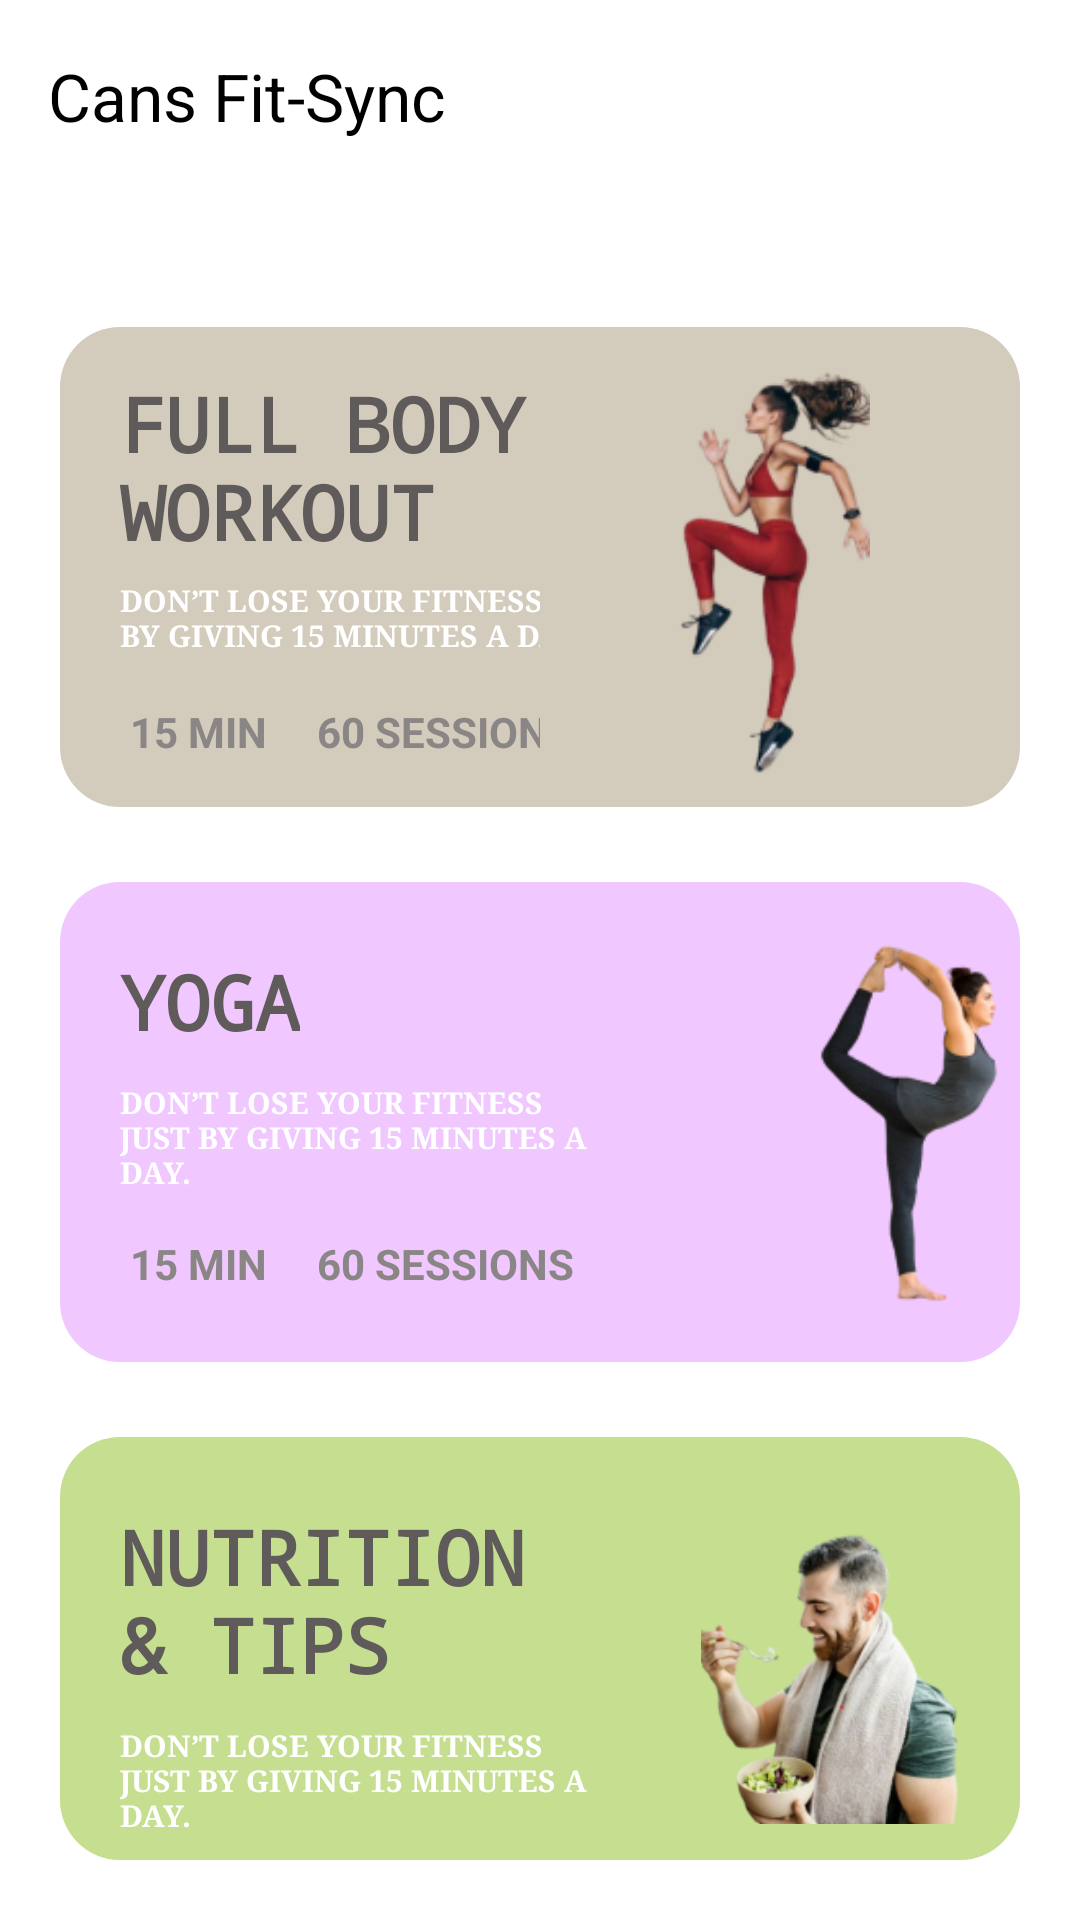

Point at icon controls on the screen. Image size 1080*1920, points as (x=x, y=y).
diet: (x=829, y=1679)
